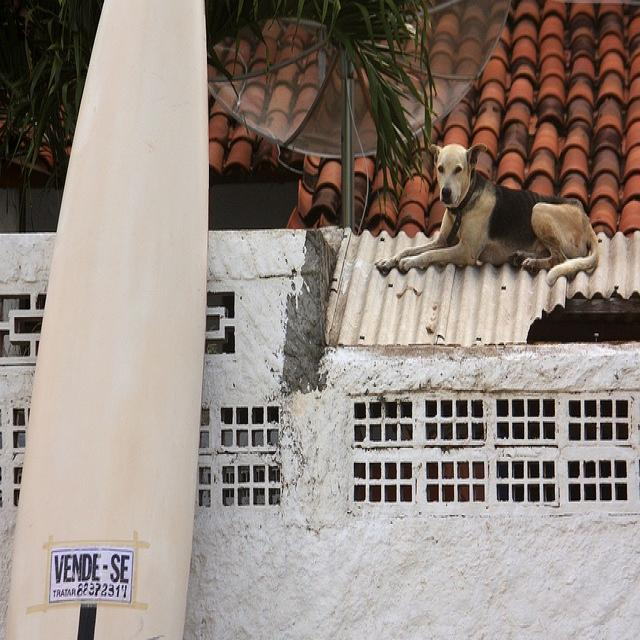dog: (372, 137, 599, 284)
